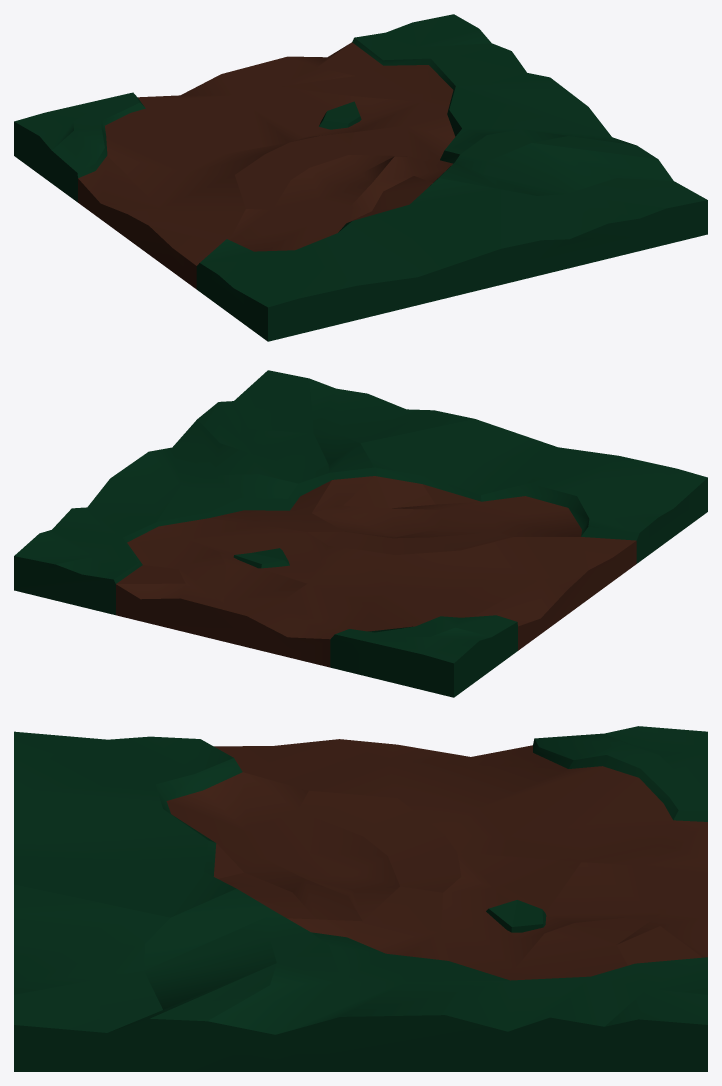
Rendered from Ground_Path_Turn_RB.fbx.
The picture shows the model from 3 angles, top to bottom: view 1: azimuth 30°, elevation 25°; view 2: azimuth 150°, elevation 25°; view 3: azimuth 270°, elevation 25°; orthographic projection. The views are drawn at different scales.
Parts seen in each view (by area): view 1: Ground_Path_Turn_RB; view 2: Ground_Path_Turn_RB; view 3: Ground_Path_Turn_RB.
Part boxes in pixels (bbox=[...]): Ground_Path_Turn_RB: bbox=[14, 14, 707, 341]; Ground_Path_Turn_RB: bbox=[14, 370, 707, 697]; Ground_Path_Turn_RB: bbox=[14, 726, 707, 1071].
Bounding box in the file's own units: 147 × 13.54 × 147.
